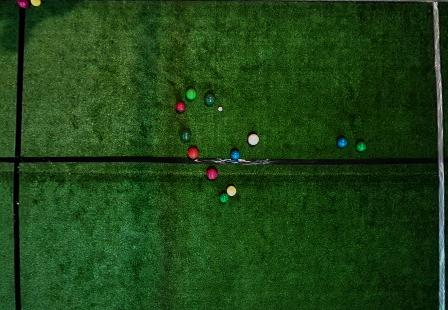blue: (336, 137, 348, 149), (230, 149, 241, 161)
green: (355, 140, 367, 153), (204, 93, 216, 106), (186, 88, 197, 101), (180, 130, 191, 142), (219, 193, 229, 204)
red: (206, 168, 218, 180), (187, 147, 199, 159), (16, 0, 30, 10), (247, 134, 259, 145), (175, 101, 186, 112)
vline: (1, 0, 26, 309), (429, 0, 447, 310)
white: (218, 107, 223, 111)
yellow: (227, 186, 237, 197), (28, 0, 42, 7)
